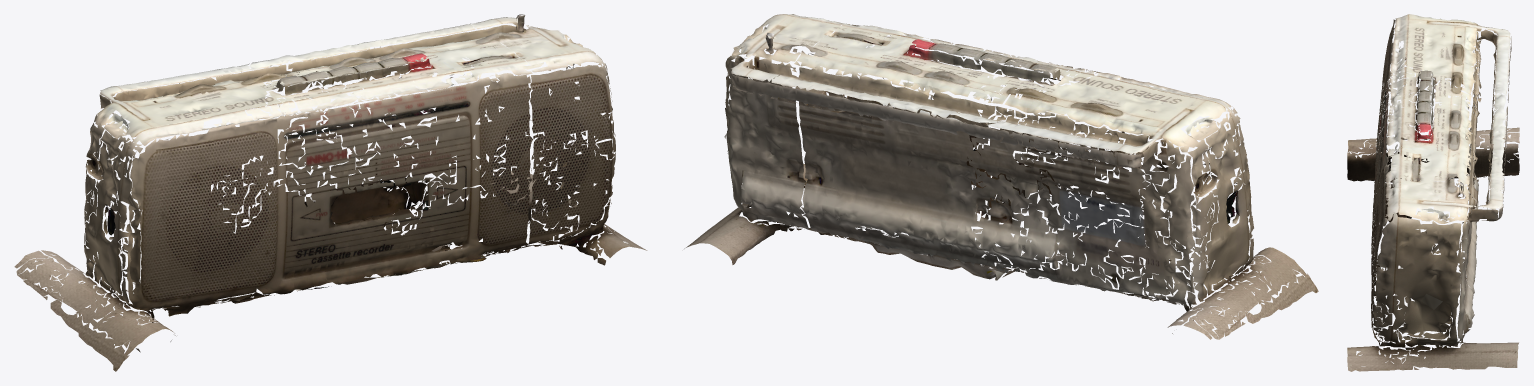
Rendered from radio.glb.
The picture shows the model from 3 angles, left to right: view 1: azimuth 30°, elevation 25°; view 2: azimuth 150°, elevation 25°; view 3: azimuth 270°, elevation 25°; orthographic projection. The views are drawn at different scales.
Visible parts, largest first — view 1: Radio; view 2: Radio; view 3: Radio.
Part boxes in pixels (bbox=[...]): Radio: bbox=[14, 14, 647, 371]; Radio: bbox=[684, 14, 1318, 339]; Radio: bbox=[1347, 14, 1519, 371].
Bounding box in the file's own units: 0.3662 × 0.1415 × 0.1263.
Materials: 1 (1 with a texture image).
